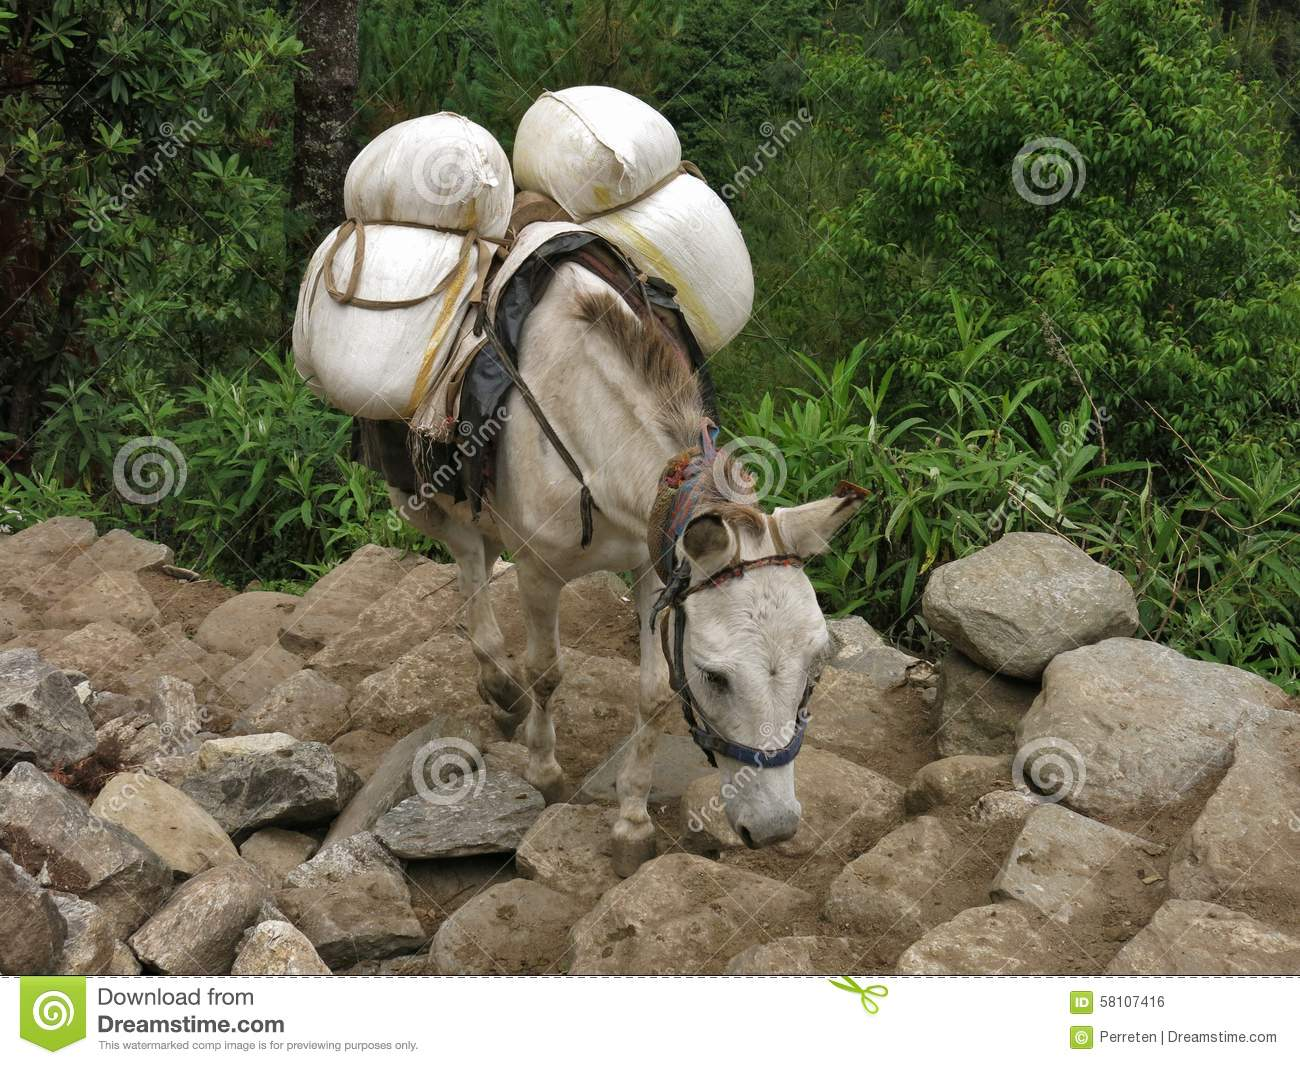equine: (349, 179, 882, 898)
